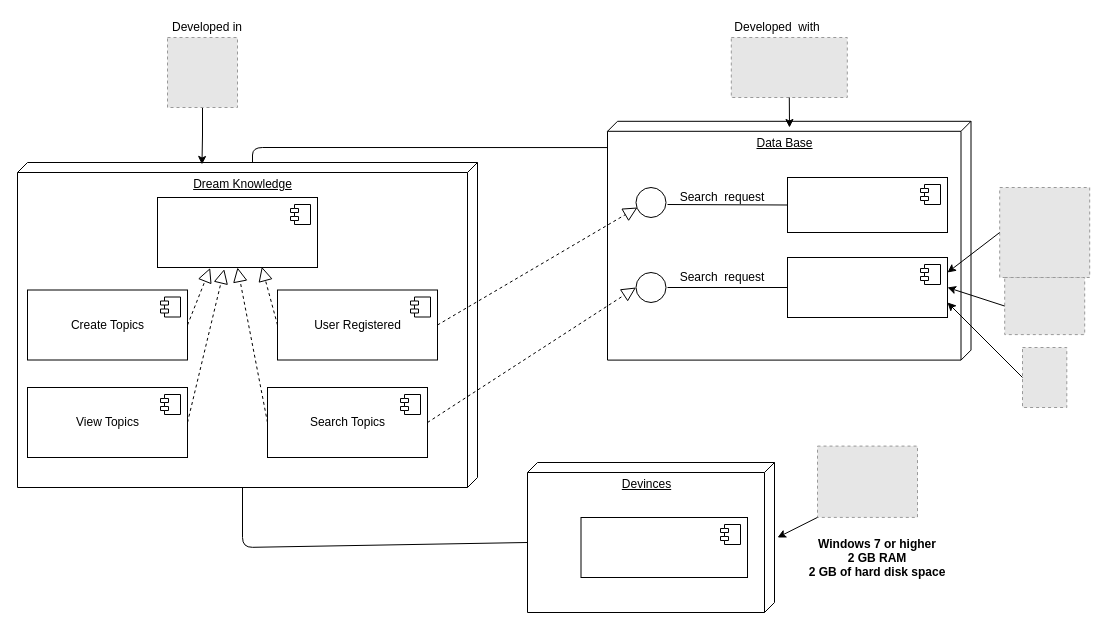
The diagram is 1108 pixels wide and 630 high, and some of its shapes have lost their labels. Grey dashed boxes stand in for pictures. Each missing label, with the centre of its shape:
Computer: the point at 664,547
GUI Admin/User: the point at 237,232
Topics: the point at 867,287
Users: the point at 867,204
